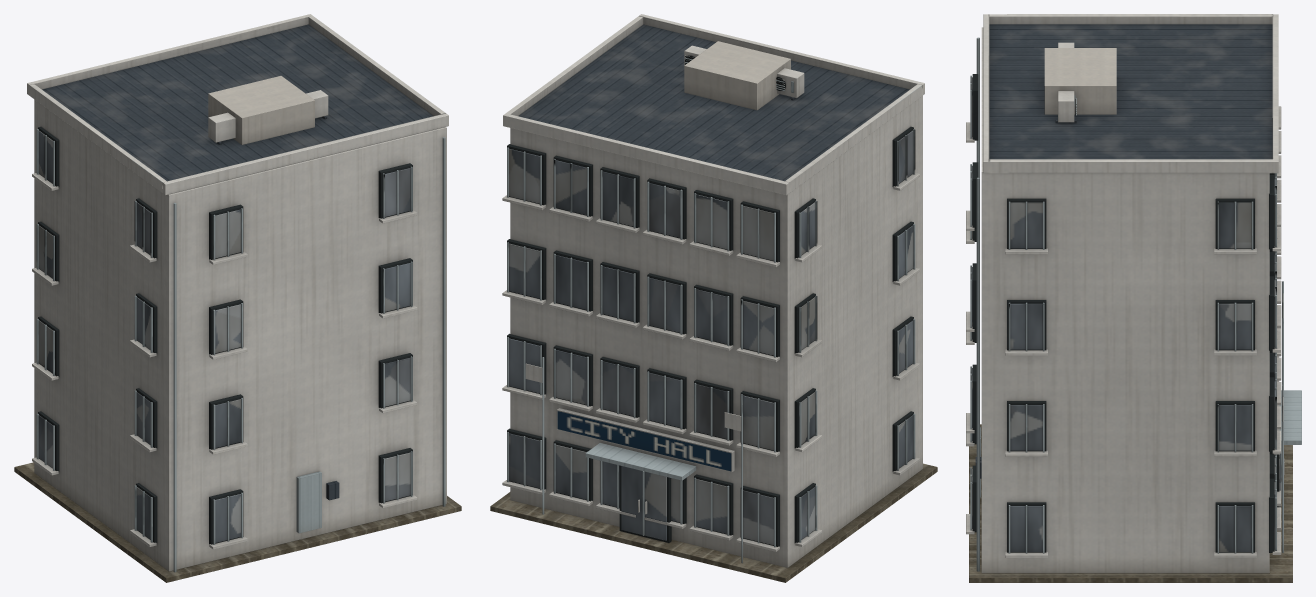
File: public_008.obj
The picture shows the model from 3 angles, left to right: view 1: azimuth 30°, elevation 25°; view 2: azimuth 150°, elevation 25°; view 3: azimuth 270°, elevation 25°; orthographic projection. The views are drawn at different scales.
Visible parts, largest first — view 1: public_008; view 2: public_008; view 3: public_008.
Part boxes in pixels (x1,y1,x2,y2): public_008: (14,14,461,582); public_008: (490,14,937,582); public_008: (966,14,1301,582).
Size of the model in its own units: 10.1 by 13.46 by 9.32.
1 material, 1 textured.
